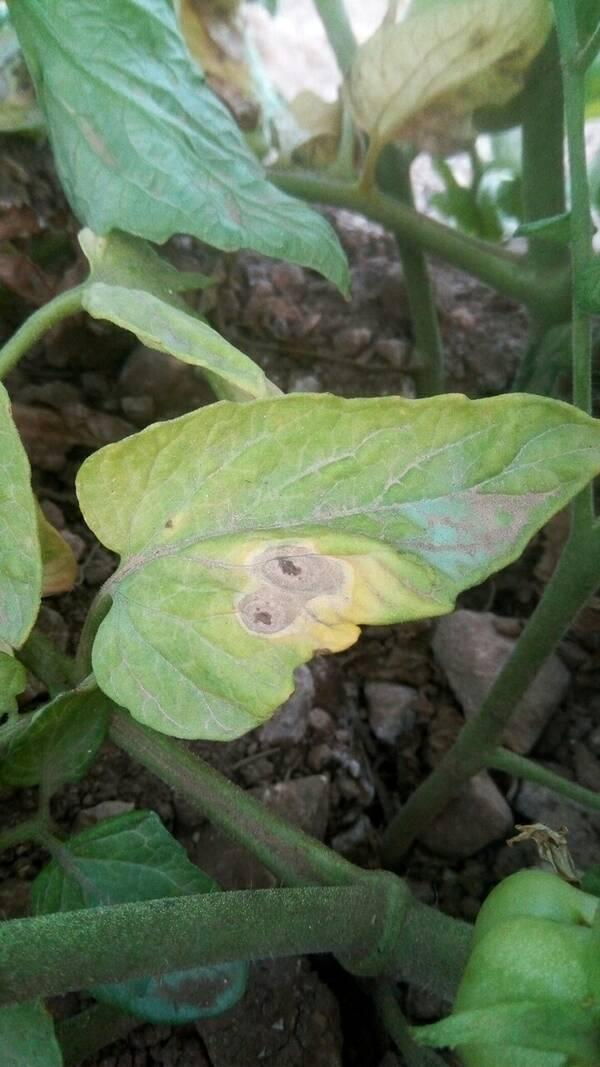Early Blight: (77, 387, 600, 742)
